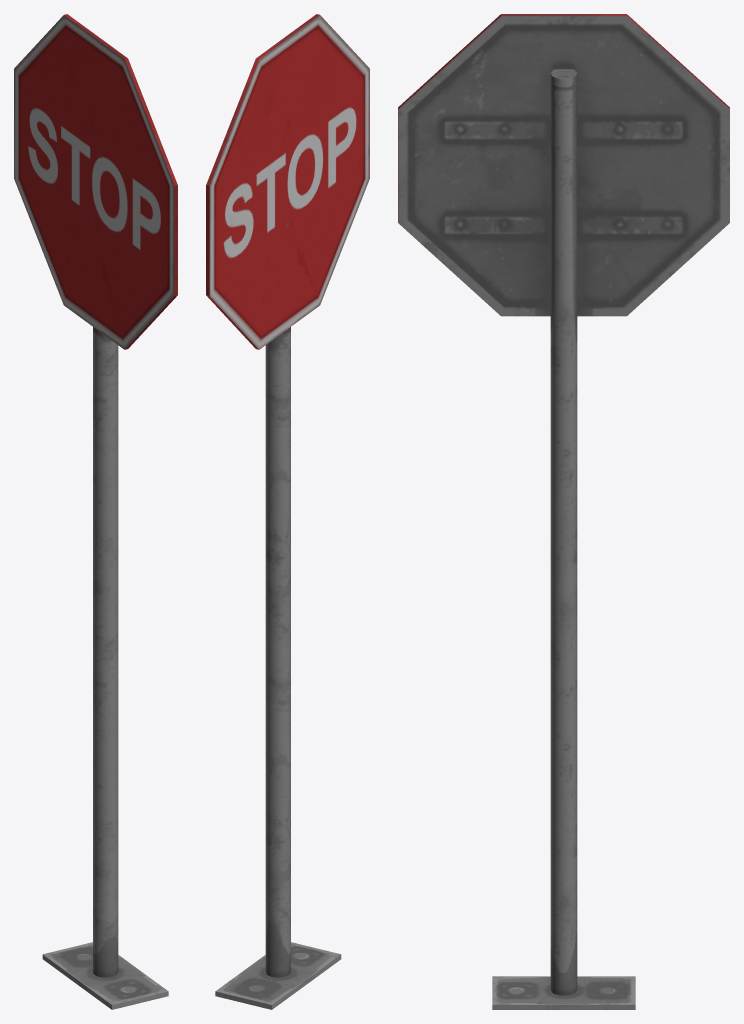
Rendered from HH_Sign_Stop_01.fbx.
3 views of the same model, side by side, from view 1: azimuth 30°, elevation 25°; view 2: azimuth 150°, elevation 25°; view 3: azimuth 270°, elevation 25° (orthographic). The views are drawn at different scales.
Visible parts, largest first — view 1: HH_Sign_Stop_01; view 2: HH_Sign_Stop_01; view 3: HH_Sign_Stop_01.
Part boxes in pixels (x1,y1,x2,y2): HH_Sign_Stop_01: (14, 14, 177, 1009); HH_Sign_Stop_01: (206, 14, 369, 1009); HH_Sign_Stop_01: (398, 14, 729, 1009).
Bounding box in the file's own units: 15.39 × 245 × 75.6.
